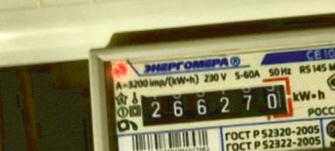0: (264, 91, 277, 112)
2: (147, 99, 163, 121), (217, 95, 231, 116)
6: (170, 99, 184, 120), (194, 97, 208, 117)
7: (240, 93, 254, 113)
screen: (126, 70, 303, 140)
